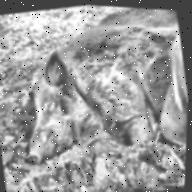boar: (4, 3, 192, 181)
